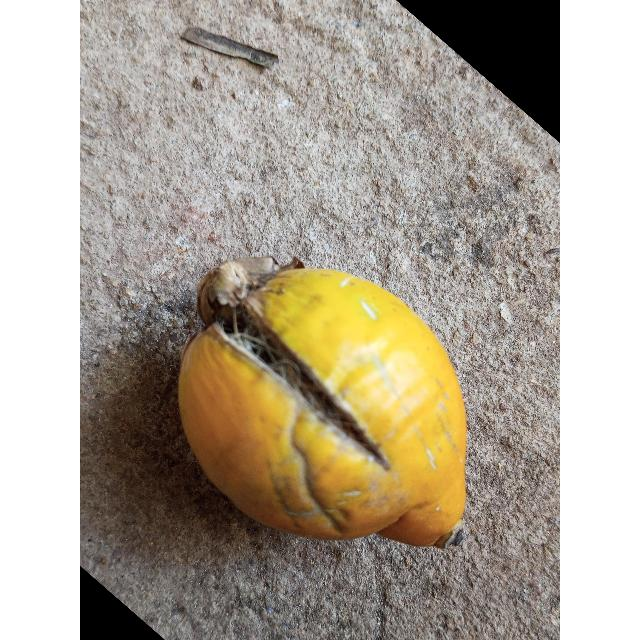damaged: (177, 258, 467, 551)
